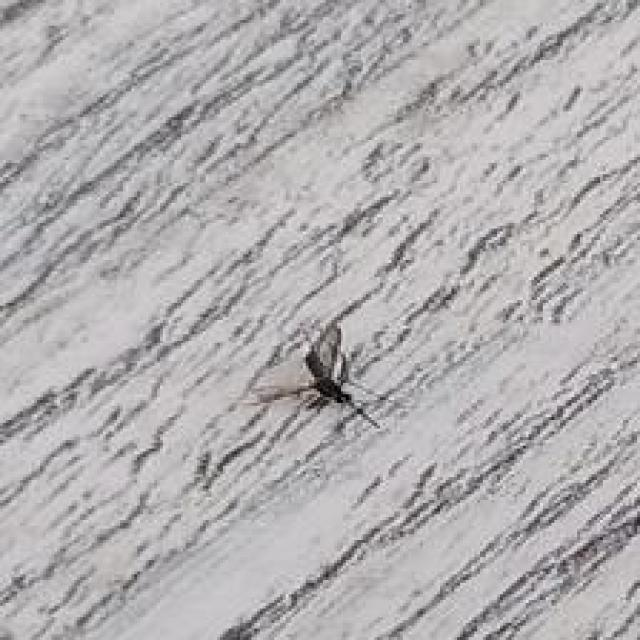Aedes albopictus: (239, 320, 387, 431)
